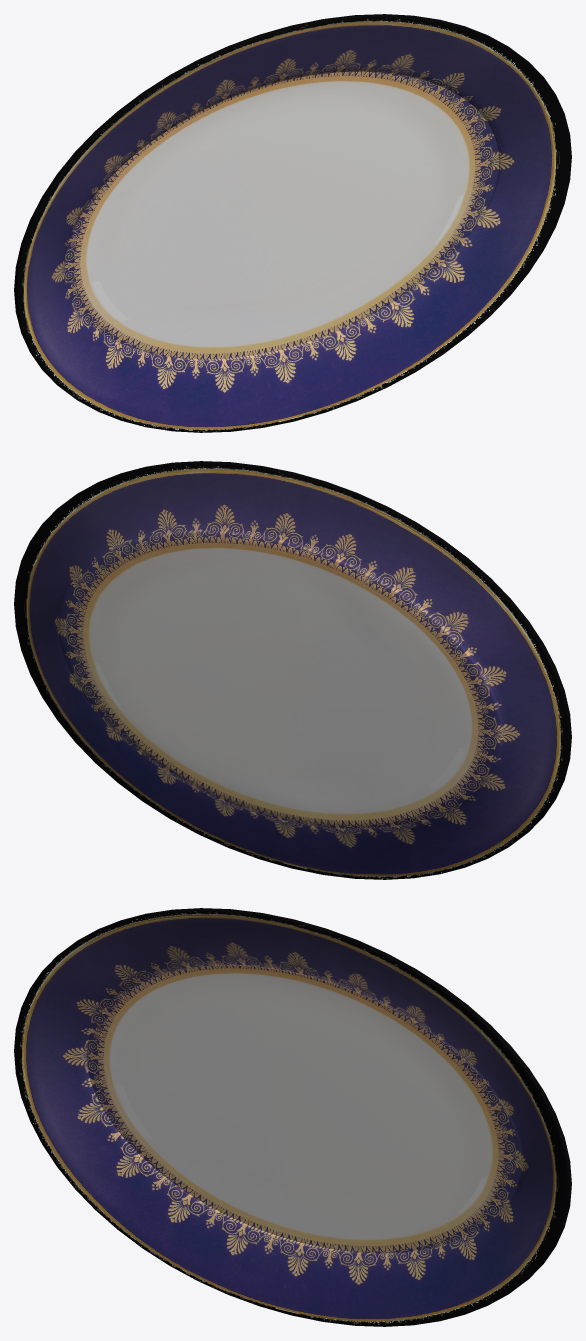
The model's file is PlateMaya.fbx.
The picture shows the model from 3 angles, top to bottom: view 1: azimuth 30°, elevation 25°; view 2: azimuth 150°, elevation 25°; view 3: azimuth 330°, elevation 25°; orthographic projection.
Visible parts, largest first — view 1: dinnerware; view 2: dinnerware; view 3: dinnerware.
Boxes of the visible parts, x1,y1,x2,y2 form: dinnerware: (14,14,571,432); dinnerware: (14,461,571,879); dinnerware: (14,908,571,1326).
Size of the model in its own units: 17.32 by 11.75 by 0.9418.
